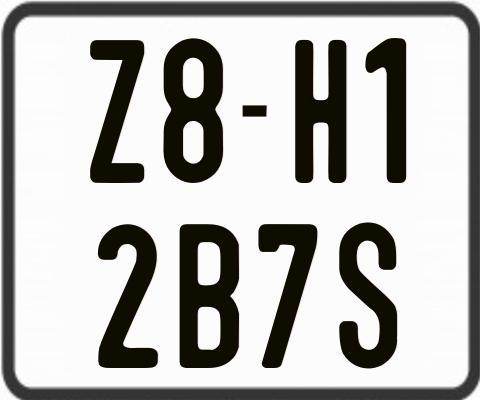1: (362, 36, 405, 186)
2: (98, 223, 159, 367)
7: (256, 221, 320, 365)
8: (160, 36, 225, 186)
B: (177, 223, 238, 367)
H: (292, 38, 344, 182)
S: (339, 221, 399, 368)
Z: (89, 38, 148, 182)
